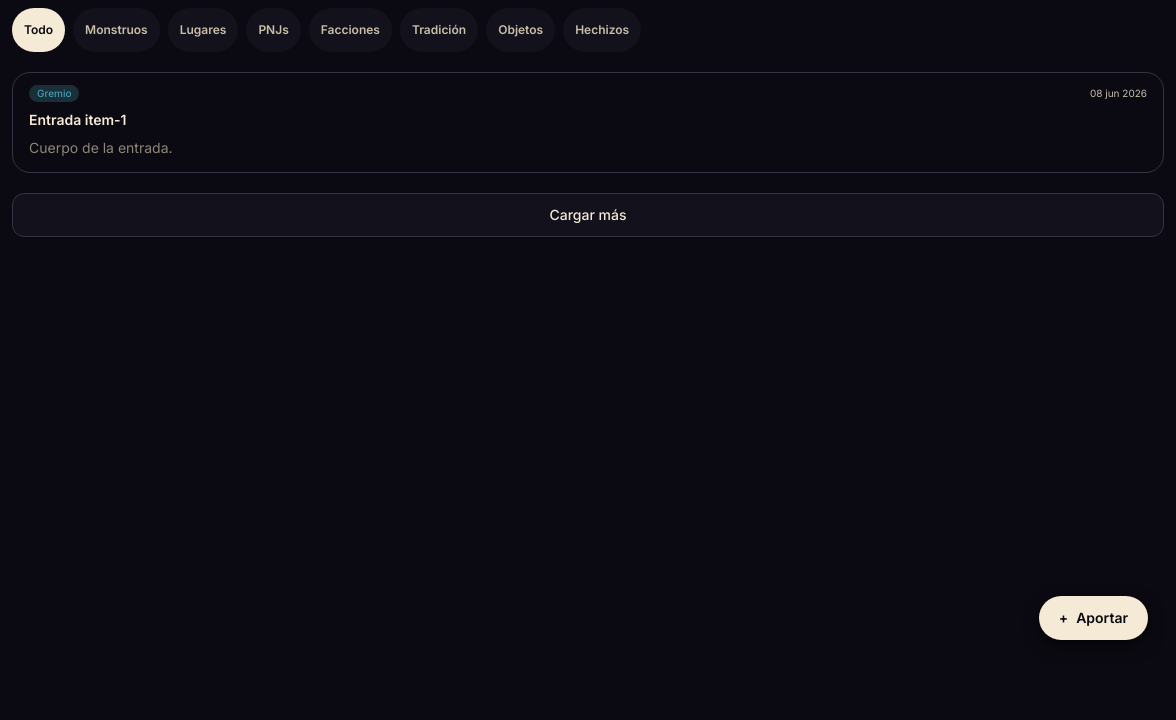
Scenario: GuildBitacoraFeed — load more appends › appends the new page to the existing rows instead of replacing them
The width and height of the screenshot is (1176, 720).
Expected: the heading "Entrada item-1" is shown, top-left (29, 111), bottom-right (126, 128)
Click the button "Cargar más".
click(588, 215)  # box top-left (12, 193), bottom-right (1164, 237)
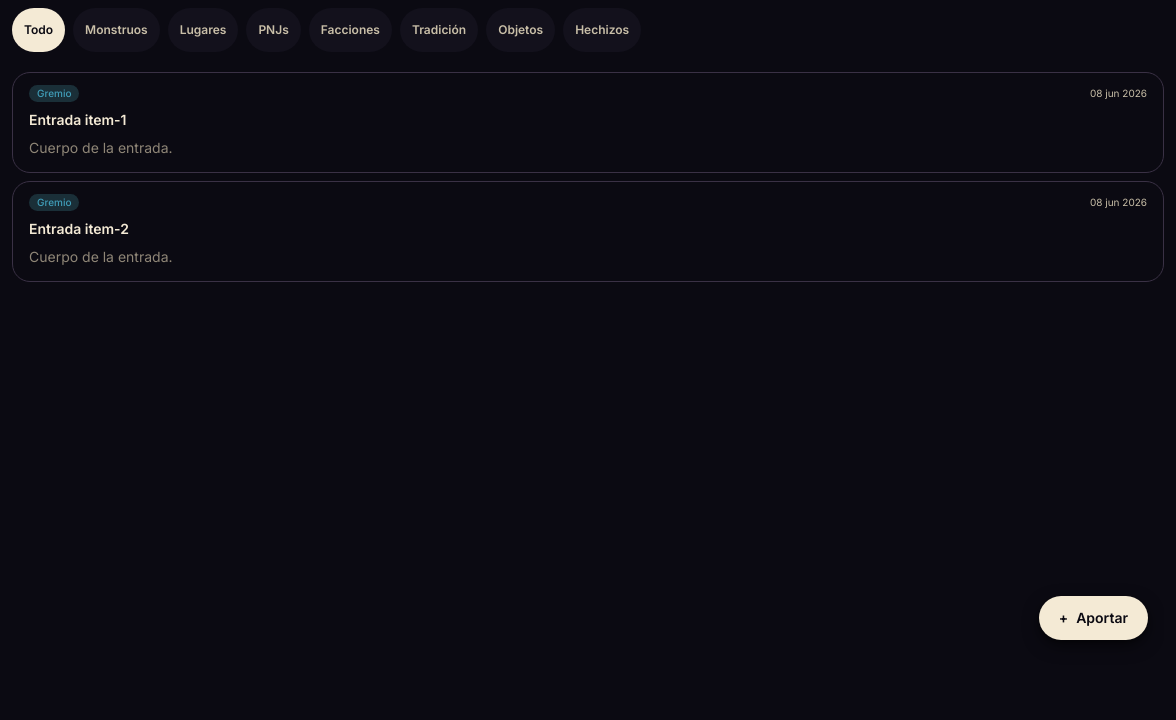
Expected: the heading "Entrada item-1" is shown, top-left (29, 111), bottom-right (126, 128)
Now the heading "Entrada item-2" is shown, box top-left (29, 220), bottom-right (129, 237)
